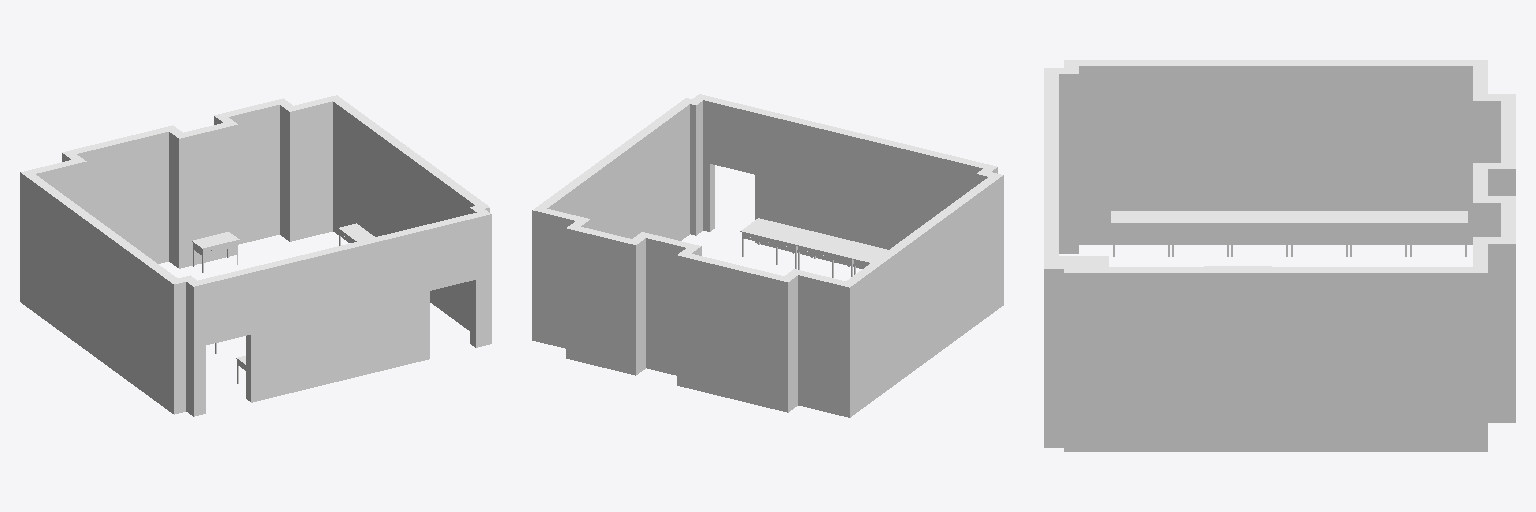
The robot description file, URDF, robot "room306":
<?xml version="1.0"?>
<robot
  name="room306">
  <link
    name="room">
    <inertial>
      <origin
        xyz="-1.52183054107555 -9.93870157982482 0.483945450655085"
        rpy="0 0 0" />
      <mass
        value="45346.8" />
      <inertia
        ixx="674485.627200213"
        ixy="-4305.39502402329"
        ixz="-42.1013677540997"
        iyy="752802.858571609"
        iyz="8488.71186506657"
        izz="1306265.37280112" />
    </inertial>
    <visual>
      <origin
        xyz="0 0 0"
        rpy="0 0 0" />
      <geometry>
        <mesh
          filename="package://room306/meshes/room.stl" />
      </geometry>
      <material
        name="">
        <color
          rgba="1 1 1 1" />
      </material>
    </visual>
    <collision>
      <origin
        xyz="0 0 0"
        rpy="0 0 0" />
      <geometry>
        <mesh
          filename="package://room306/meshes/room.stl" />
      </geometry>
    </collision>
  </link>
  <link
    name="table1">
    <inertial>
      <origin
        xyz="4.25490454326604 -0.0920905234071352 4.31"
        rpy="0 0 0" />
      <mass
        value="143.311" />
      <inertia
        ixx="18.1626871813065"
        ixy="-0.000347601639788651"
        ixz="-1.22753369968809E-15"
        iyy="20.8101693108186"
        iyz="1.14081649942727E-14"
        izz="5.02156617545839" />
    </inertial>
    <visual>
      <origin
        xyz="0 0 0"
        rpy="0 0 0" />
      <geometry>
        <mesh
          filename="package://room306/meshes/table1.stl" />
      </geometry>
      <material
        name="">
        <color
          rgba="1 1 1 1" />
      </material>
    </visual>
    <collision>
      <origin
        xyz="0 0 0"
        rpy="0 0 0" />
      <geometry>
        <mesh
          filename="package://room306/meshes/table1.stl" />
      </geometry>
    </collision>
  </link>
  <joint
    name="table1_to_room"
    type="fixed">
    <origin
      xyz="-1.30873985330926 -6.296 -0.804593542173516"
      rpy="1.5707963267949 0 0" />
    <parent
      link="room" />
    <child
      link="table1" />
    <axis
      xyz="0 0 0" />
  </joint>
  <link
    name="table2">
    <inertial>
      <origin
        xyz="-0.300095456733957 -0.0920905234071351 0.6"
        rpy="0 0 0" />
      <mass
        value="143.311" />
      <inertia
        ixx="18.1626871813066"
        ixy="-0.000347601639790632"
        ixz="6.37033828465583E-15"
        iyy="20.8101693108186"
        iyz="1.65832245938718E-14"
        izz="5.0215661754584" />
    </inertial>
    <visual>
      <origin
        xyz="0 0 0"
        rpy="0 0 0" />
      <geometry>
        <mesh
          filename="package://room306/meshes/table2.stl" />
      </geometry>
      <material
        name="">
        <color
          rgba="1 1 1 1" />
      </material>
    </visual>
    <collision>
      <origin
        xyz="0 0 0"
        rpy="0 0 0" />
      <geometry>
        <mesh
          filename="package://room306/meshes/table2.stl" />
      </geometry>
    </collision>
  </link>
  <joint
    name="table2_to_table1"
    type="fixed">
    <origin
      xyz="4.555 0 2.51"
      rpy="0 0 0" />
    <parent
      link="table1" />
    <child
      link="table2" />
    <axis
      xyz="0 0 0" />
  </joint>
  <link
    name="table3">
    <inertial>
      <origin
        xyz="-0.300095456733956 -0.0920905234071353 0.600000000000003"
        rpy="0 0 0" />
      <mass
        value="143.311" />
      <inertia
        ixx="18.1626871813064"
        ixy="-0.00034760163979296"
        ixz="-3.43865561025503E-15"
        iyy="20.8101693108185"
        iyz="1.60841392288225E-16"
        izz="5.02156617545838" />
    </inertial>
    <visual>
      <origin
        xyz="0 0 0"
        rpy="0 0 0" />
      <geometry>
        <mesh
          filename="package://room306/meshes/table3.stl" />
      </geometry>
      <material
        name="">
        <color
          rgba="1 1 1 1" />
      </material>
    </visual>
    <collision>
      <origin
        xyz="0 0 0"
        rpy="0 0 0" />
      <geometry>
        <mesh
          filename="package://room306/meshes/table3.stl" />
      </geometry>
    </collision>
  </link>
  <joint
    name="table3_to_table2"
    type="fixed">
    <origin
      xyz="0 0 -1.2"
      rpy="0 0 0" />
    <parent
      link="table2" />
    <child
      link="table3" />
    <axis
      xyz="0 0 0" />
  </joint>
  <link
    name="table4">
    <inertial>
      <origin
        xyz="0.6 -0.0920905234071353 0.300095456733955"
        rpy="0 0 0" />
      <mass
        value="143.311" />
      <inertia
        ixx="5.02156617545838"
        ixy="-5.8870280612161E-15"
        ixz="-1.8398910867079E-15"
        iyy="20.8101693108185"
        iyz="0.000347601639794192"
        izz="18.1626871813065" />
    </inertial>
    <visual>
      <origin
        xyz="0 0 0"
        rpy="0 0 0" />
      <geometry>
        <mesh
          filename="package://room306/meshes/table4.stl" />
      </geometry>
      <material
        name="">
        <color
          rgba="1 1 1 1" />
      </material>
    </visual>
    <collision>
      <origin
        xyz="0 0 0"
        rpy="0 0 0" />
      <geometry>
        <mesh
          filename="package://room306/meshes/table4.stl" />
      </geometry>
    </collision>
  </link>
  <joint
    name="table4_to_room"
    type="fixed">
    <origin
      xyz="-1.30873985330926 -6.296 -0.804593542173516"
      rpy="1.5707963267949 0 0" />
    <parent
      link="room" />
    <child
      link="table4" />
    <axis
      xyz="0 0 0" />
  </joint>
  <link
    name="table5">
    <inertial>
      <origin
        xyz="0.300095456733957 -0.0920905234071352 -0.600000000000002"
        rpy="0 0 0" />
      <mass
        value="143.311" />
      <inertia
        ixx="18.1626871813065"
        ixy="0.000347601639792208"
        ixz="2.17946320713036E-15"
        iyy="20.8101693108185"
        iyz="4.26053506710766E-15"
        izz="5.02156617545838" />
    </inertial>
    <visual>
      <origin
        xyz="0 0 0"
        rpy="0 0 0" />
      <geometry>
        <mesh
          filename="package://room306/meshes/table5.stl" />
      </geometry>
      <material
        name="">
        <color
          rgba="1 1 1 1" />
      </material>
    </visual>
    <collision>
      <origin
        xyz="0 0 0"
        rpy="0 0 0" />
      <geometry>
        <mesh
          filename="package://room306/meshes/table5.stl" />
      </geometry>
    </collision>
  </link>
  <joint
    name="table5_to_room"
    type="fixed">
    <origin
      xyz="-6.34473985330926 -7.596 -0.804593542173516"
      rpy="1.5707963267949 0 0" />
    <parent
      link="room" />
    <child
      link="table5" />
    <axis
      xyz="0 0 0" />
  </joint>
  <link
    name="table6">
    <inertial>
      <origin
        xyz="0.300095456733956 -0.092090523407135 -0.600000000000001"
        rpy="0 0 0" />
      <mass
        value="143.311" />
      <inertia
        ixx="18.1626871813065"
        ixy="0.000347601639789028"
        ixz="1.40209024945825E-15"
        iyy="20.8101693108185"
        iyz="-5.2378349053861E-15"
        izz="5.02156617545837" />
    </inertial>
    <visual>
      <origin
        xyz="0 0 0"
        rpy="0 0 0" />
      <geometry>
        <mesh
          filename="package://room306/meshes/table6.stl" />
      </geometry>
      <material
        name="">
        <color
          rgba="1 1 1 1" />
      </material>
    </visual>
    <collision>
      <origin
        xyz="0 0 0"
        rpy="0 0 0" />
      <geometry>
        <mesh
          filename="package://room306/meshes/table6.stl" />
      </geometry>
    </collision>
  </link>
  <joint
    name="table6_to_table5"
    type="fixed">
    <origin
      xyz="0 0 1.2"
      rpy="0 0 0" />
    <parent
      link="table5" />
    <child
      link="table6" />
    <axis
      xyz="0 0 0" />
  </joint>
  <link
    name="table7">
    <inertial>
      <origin
        xyz="0.300095456733956 -0.0920905234071354 -0.6"
        rpy="0 0 0" />
      <mass
        value="143.311" />
      <inertia
        ixx="18.1626871813064"
        ixy="0.000347601639789656"
        ixz="1.10241676898326E-15"
        iyy="20.8101693108185"
        iyz="3.1738446506363E-14"
        izz="5.02156617545838" />
    </inertial>
    <visual>
      <origin
        xyz="0 0 0"
        rpy="0 0 0" />
      <geometry>
        <mesh
          filename="package://room306/meshes/table7.stl" />
      </geometry>
      <material
        name="">
        <color
          rgba="1 1 1 1" />
      </material>
    </visual>
    <collision>
      <origin
        xyz="0 0 0"
        rpy="0 0 0" />
      <geometry>
        <mesh
          filename="package://room306/meshes/table7.stl" />
      </geometry>
    </collision>
  </link>
  <joint
    name="table7_to_table6"
    type="fixed">
    <origin
      xyz="0 0 1.2"
      rpy="0 0 0" />
    <parent
      link="table6" />
    <child
      link="table7" />
    <axis
      xyz="0 0 0" />
  </joint>
  <link
    name="table8">
    <inertial>
      <origin
        xyz="0.300095456733957 -0.0920905234071349 -0.6"
        rpy="0 0 0" />
      <mass
        value="143.311" />
      <inertia
        ixx="18.1626871813064"
        ixy="0.000347601639790079"
        ixz="-8.97502558383501E-16"
        iyy="20.8101693108185"
        iyz="3.84558108013772E-14"
        izz="5.02156617545837" />
    </inertial>
    <visual>
      <origin
        xyz="0 0 0"
        rpy="0 0 0" />
      <geometry>
        <mesh
          filename="package://room306/meshes/table8.stl" />
      </geometry>
      <material
        name="">
        <color
          rgba="1 1 1 1" />
      </material>
    </visual>
    <collision>
      <origin
        xyz="0 0 0"
        rpy="0 0 0" />
      <geometry>
        <mesh
          filename="package://room306/meshes/table8.stl" />
      </geometry>
    </collision>
  </link>
  <joint
    name="table8_to_table7"
    type="fixed">
    <origin
      xyz="0 0 1.2"
      rpy="0 0 0" />
    <parent
      link="table7" />
    <child
      link="table8" />
    <axis
      xyz="0 0 0" />
  </joint>
  <link
    name="table9">
    <inertial>
      <origin
        xyz="0.300095456733957 -0.0920905234071348 -0.6"
        rpy="0 0 0" />
      <mass
        value="143.311" />
      <inertia
        ixx="18.1626871813064"
        ixy="0.000347601639790664"
        ixz="-2.5281426258017E-15"
        iyy="20.8101693108185"
        iyz="2.7611430936797E-14"
        izz="5.02156617545837" />
    </inertial>
    <visual>
      <origin
        xyz="0 0 0"
        rpy="0 0 0" />
      <geometry>
        <mesh
          filename="package://room306/meshes/table9.stl" />
      </geometry>
      <material
        name="">
        <color
          rgba="1 1 1 1" />
      </material>
    </visual>
    <collision>
      <origin
        xyz="0 0 0"
        rpy="0 0 0" />
      <geometry>
        <mesh
          filename="package://room306/meshes/table9.stl" />
      </geometry>
    </collision>
  </link>
  <joint
    name="table9_to_table8"
    type="fixed">
    <origin
      xyz="0 0 1.2"
      rpy="0 0 0" />
    <parent
      link="table8" />
    <child
      link="table9" />
    <axis
      xyz="0 0 0" />
  </joint>
  <link
    name="table10">
    <inertial>
      <origin
        xyz="0.300095456733957 -0.0920905234071354 -0.599999999999996"
        rpy="0 0 0" />
      <mass
        value="143.311" />
      <inertia
        ixx="18.1626871813064"
        ixy="0.00034760163978976"
        ixz="-2.44834534590677E-15"
        iyy="20.8101693108184"
        iyz="5.28659689809363E-15"
        izz="5.02156617545836" />
    </inertial>
    <visual>
      <origin
        xyz="0 0 0"
        rpy="0 0 0" />
      <geometry>
        <mesh
          filename="package://room306/meshes/table10.stl" />
      </geometry>
      <material
        name="">
        <color
          rgba="1 1 1 1" />
      </material>
    </visual>
    <collision>
      <origin
        xyz="0 0 0"
        rpy="0 0 0" />
      <geometry>
        <mesh
          filename="package://room306/meshes/table10.stl" />
      </geometry>
    </collision>
  </link>
  <joint
    name="table10_to_table11"
    type="fixed">
    <origin
      xyz="0 0 1.2"
      rpy="0 0 0" />
    <parent
      link="table9" />
    <child
      link="table10" />
    <axis
      xyz="0 0 0" />
  </joint>
  <link
    name="table11">
    <inertial>
      <origin
        xyz="-0.00123706746036101 -0.100154106926046 -0.500095275773161"
        rpy="0 0 0" />
      <mass
        value="366.514999999999" />
      <inertia
        ixx="31.1111171207088"
        ixy="-0.178371531293596"
        ixz="0.000681564982000493"
        iyy="124.280891263417"
        iyz="-0.000954918586147398"
        izz="98.0383580548525" />
    </inertial>
    <visual>
      <origin
        xyz="0 0 0"
        rpy="0 0 0" />
      <geometry>
        <mesh
          filename="package://room306/meshes/table11.stl" />
      </geometry>
      <material
        name="">
        <color
          rgba="1 1 1 1" />
      </material>
    </visual>
    <collision>
      <origin
        xyz="0 0 0"
        rpy="0 0 0" />
      <geometry>
        <mesh
          filename="package://room306/meshes/table11.stl" />
      </geometry>
    </collision>
  </link>
  <joint
    name="table11_to_room"
    type="fixed">
    <origin
      xyz="-3.21573985330926 -14.646 -0.772093542173515"
      rpy="1.5707963267949 0 0" />
    <parent
      link="room" />
    <child
      link="table11" />
    <axis
      xyz="0 0 0" />
  </joint>
  <link
    name="table12">
    <inertial>
      <origin
        xyz="-0.00123706746036145 -0.100154106926046 -0.500095275773162"
        rpy="0 0 0" />
      <mass
        value="366.515" />
      <inertia
        ixx="31.1111171207088"
        ixy="-0.178371531293636"
        ixz="0.000681564982000467"
        iyy="124.280891263417"
        iyz="-0.000954918586143434"
        izz="98.0383580548525" />
    </inertial>
    <visual>
      <origin
        xyz="0 0 0"
        rpy="0 0 0" />
      <geometry>
        <mesh
          filename="package://room306/meshes/table12.stl" />
      </geometry>
      <material
        name="">
        <color
          rgba="1 1 1 1" />
      </material>
    </visual>
    <collision>
      <origin
        xyz="0 0 0"
        rpy="0 0 0" />
      <geometry>
        <mesh
          filename="package://room306/meshes/table12.stl" />
      </geometry>
    </collision>
  </link>
  <joint
    name="table12_to_table11"
    type="fixed">
    <origin
      xyz="1.8 0 0"
      rpy="0 0 0" />
    <parent
      link="table11" />
    <child
      link="table12" />
    <axis
      xyz="0 0 0" />
  </joint>
  <link
    name="table13">
    <inertial>
      <origin
        xyz="-0.00123706746036151 -0.100154106926047 -0.500095275773162"
        rpy="0 0 0" />
      <mass
        value="366.515" />
      <inertia
        ixx="31.1111171207088"
        ixy="-0.178371531293591"
        ixz="0.000681564982024223"
        iyy="124.280891263417"
        iyz="-0.000954918586144825"
        izz="98.0383580548525" />
    </inertial>
    <visual>
      <origin
        xyz="0 0 0"
        rpy="0 0 0" />
      <geometry>
        <mesh
          filename="package://room306/meshes/table13.stl" />
      </geometry>
      <material
        name="">
        <color
          rgba="1 1 1 1" />
      </material>
    </visual>
    <collision>
      <origin
        xyz="0 0 0"
        rpy="0 0 0" />
      <geometry>
        <mesh
          filename="package://room306/meshes/table13.stl" />
      </geometry>
    </collision>
  </link>
  <joint
    name="table13_to_table12"
    type="fixed">
    <origin
      xyz="1.8 0 0"
      rpy="0 0 0" />
    <parent
      link="table12" />
    <child
      link="table13" />
    <axis
      xyz="0 0 0" />
  </joint>
  <link
    name="table14">
    <inertial>
      <origin
        xyz="8.43769498715119E-15 -0.0501702623932924 0.677500000000002"
        rpy="0 0 0" />
      <mass
        value="111.25475" />
      <inertia
        ixx="23.9421864987631"
        ixy="2.14857149294017E-13"
        ixz="-1.5237064061868E-13"
        iyy="85.2466084536461"
        iyz="2.51405939881099E-14"
        izz="64.8171238909506" />
    </inertial>
    <visual>
      <origin
        xyz="0 0 0"
        rpy="0 0 0" />
      <geometry>
        <mesh
          filename="package://room306/meshes/table14.stl" />
      </geometry>
      <material
        name="">
        <color
          rgba="1 1 1 1" />
      </material>
    </visual>
    <collision>
      <origin
        xyz="0 0 0"
        rpy="0 0 0" />
      <geometry>
        <mesh
          filename="package://room306/meshes/table14.stl" />
      </geometry>
    </collision>
  </link>
  <joint
    name="table14_to_room"
    type="fixed">
    <origin
      xyz="-2.45873985330926 -10.361 -0.767093542173516"
      rpy="1.5707963267949 0 0" />
    <parent
      link="room" />
    <child
      link="table14" />
    <axis
      xyz="0 0 0" />
  </joint>
</robot>

--- Render facts (derived) ---
3 views of the same robot in one strip: view 1: azimuth 30°, elevation 25°; view 2: azimuth 150°, elevation 25°; view 3: azimuth 270°, elevation 25° (orthographic).
Model room306 with 15 links and 14 joints (14 fixed), rooted at room, posed every joint at zero.
Visible links, largest first — view 1: room, table4; view 2: room, table13, table12; view 3: room, table6, table8, table10, table5, table7, table9.
Boxes of the visible links, x1=… form: room: x1=20, y1=95, x2=491, y2=416; table4: x1=192, y1=232, x2=239, y2=272; room: x1=532, y1=94, x2=1003, y2=417; table13: x1=740, y1=218, x2=813, y2=268; table12: x1=796, y1=232, x2=869, y2=277; room: x1=1044, y1=60, x2=1515, y2=451; table6: x1=1349, y1=211, x2=1408, y2=256; table8: x1=1230, y1=211, x2=1289, y2=256; table10: x1=1111, y1=211, x2=1170, y2=256; table5: x1=1409, y1=211, x2=1467, y2=256; table7: x1=1290, y1=211, x2=1348, y2=256; table9: x1=1171, y1=211, x2=1229, y2=256.
Bounding box of the posed robot: 10.19 × 9.51 × 4 m (x, y, z).
Meshes: 15 distinct files referenced, 15 mesh visuals loaded (15 binary STL).